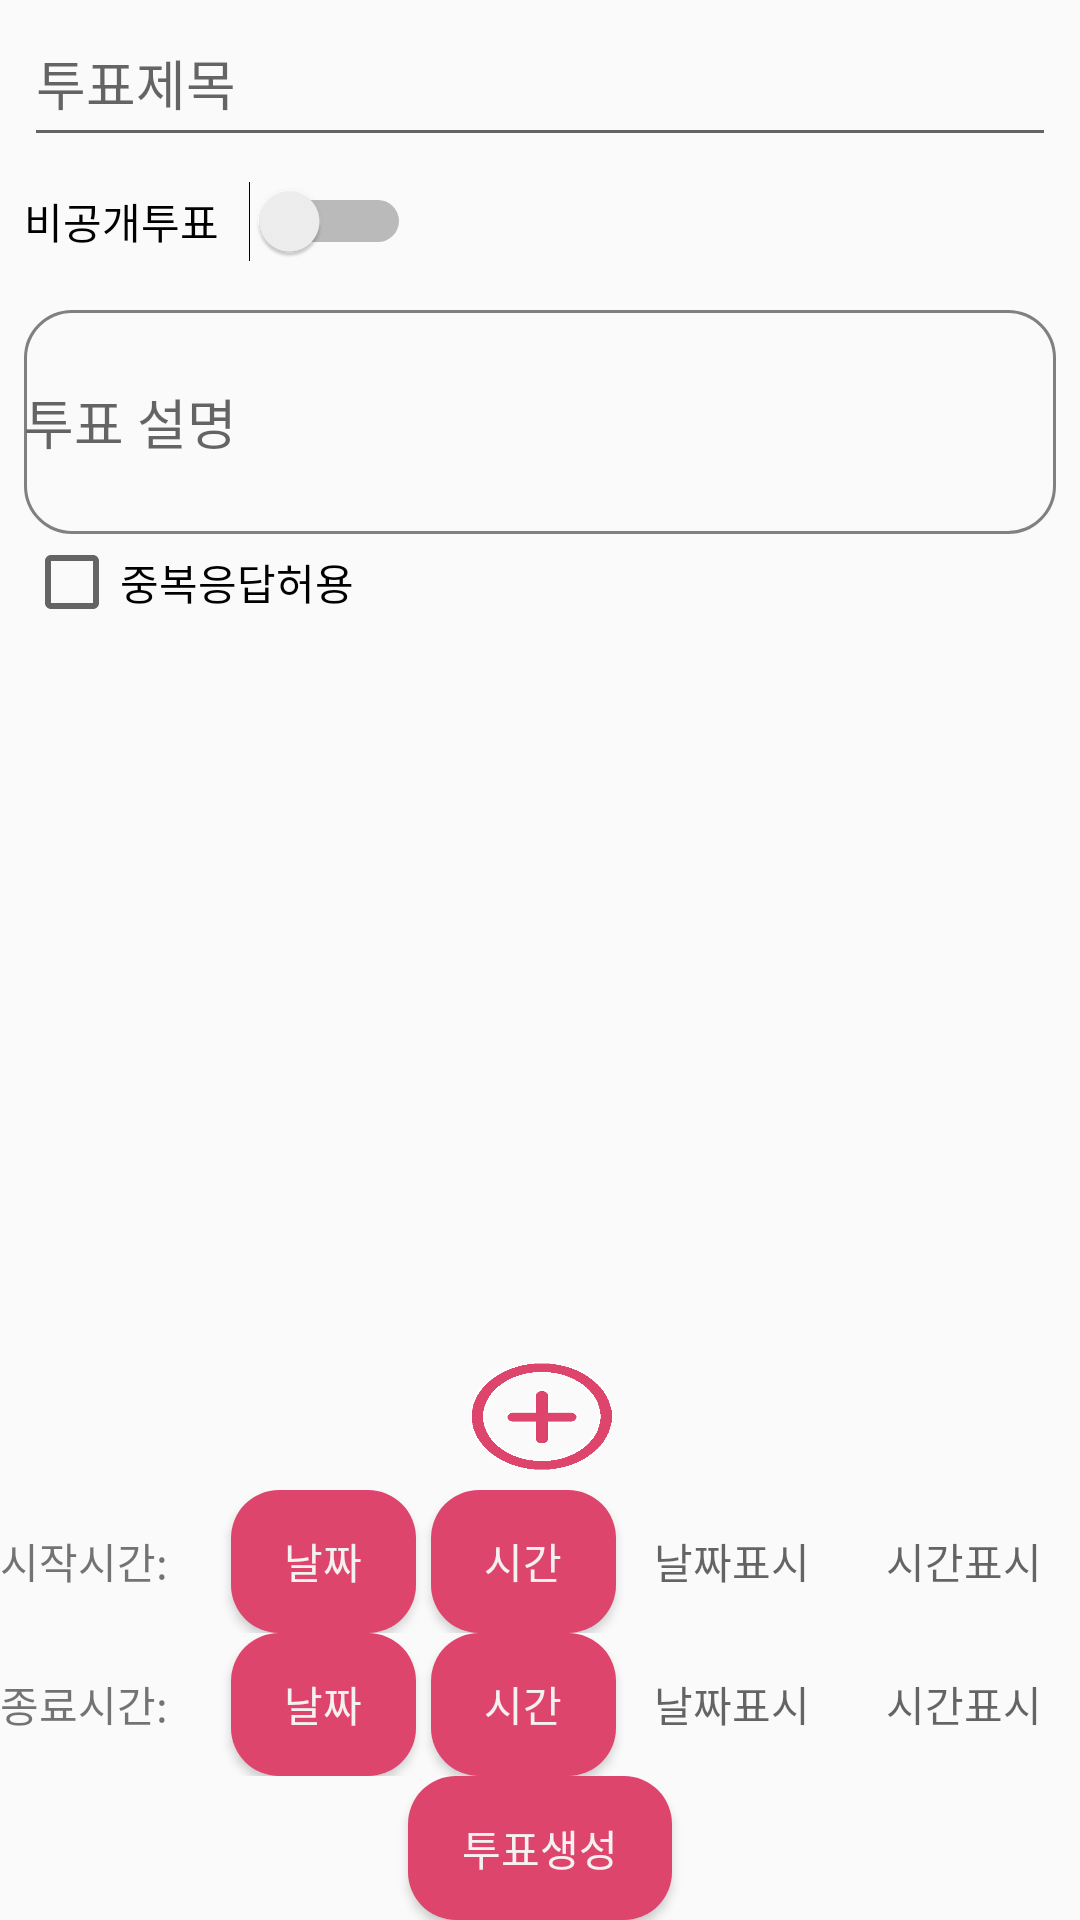

Named icons in this screenshot (1080 x 1920) and their centers, (x,y):
plus: (542,1416)
